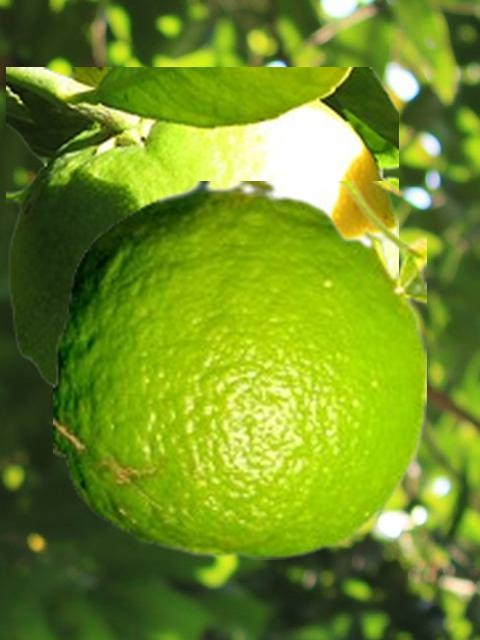dalandan: (53, 181, 425, 558), (6, 67, 397, 391)
